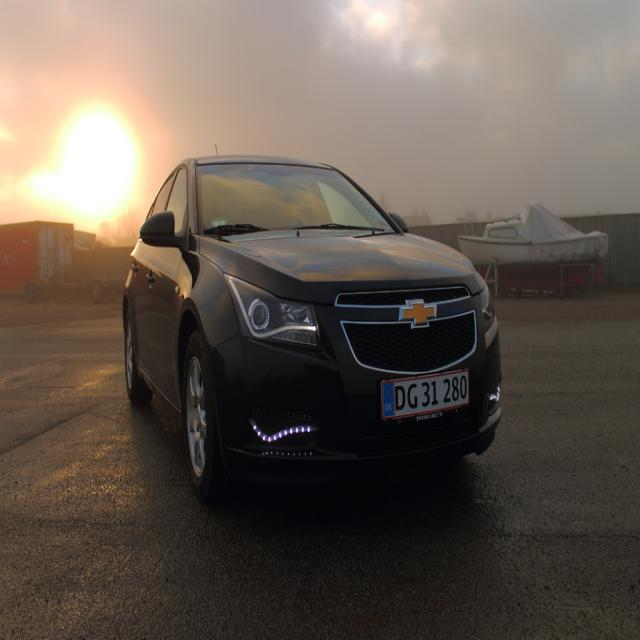car: (115, 143, 498, 495)
